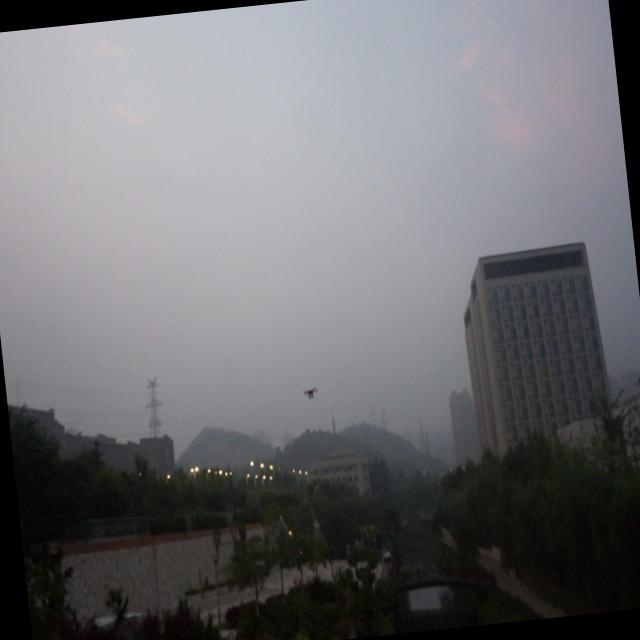drone: (302, 384, 321, 404)
